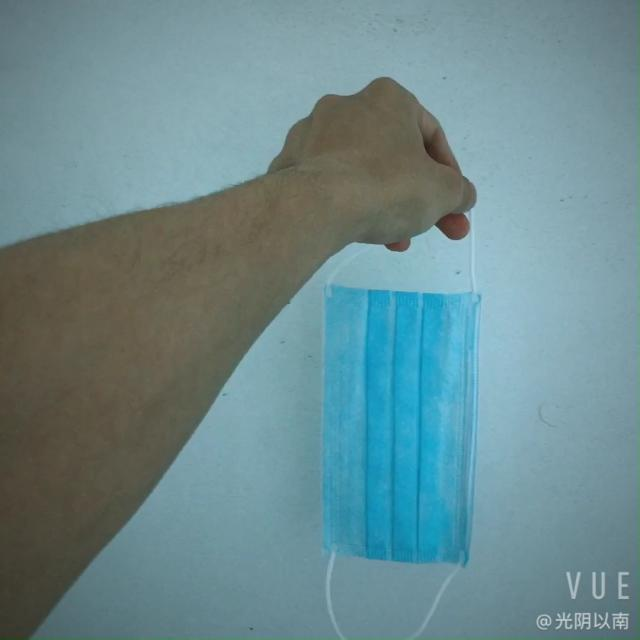face mask: (309, 274, 510, 584)
